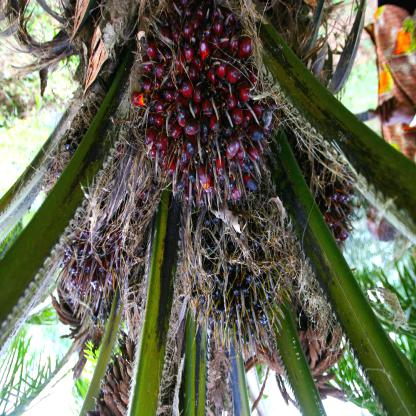1: (125, 1, 276, 198), (55, 214, 136, 316), (302, 135, 357, 252)
palm-oil: (182, 207, 288, 345)
